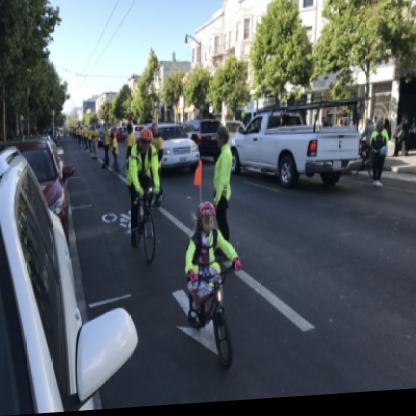With Helmet: (196, 204, 218, 237), (136, 129, 154, 155)
